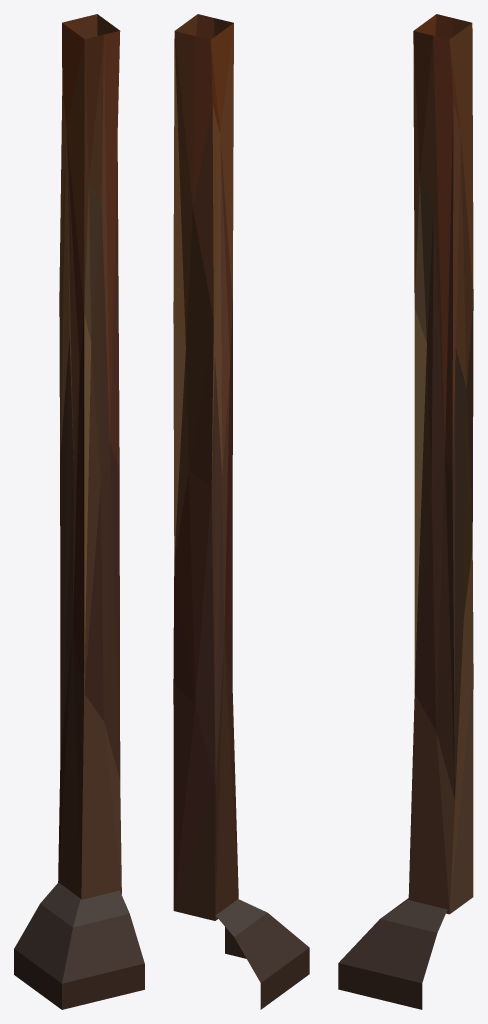
The model's file is Wall_HomeA-CornerOuterE.fbx.
The picture shows the model from 3 angles, left to right: view 1: azimuth 30°, elevation 25°; view 2: azimuth 150°, elevation 25°; view 3: azimuth 330°, elevation 25°; orthographic projection.
Parts seen in each view (by area): view 1: Wall_HomeA-CornerOuterE; view 2: Wall_HomeA-CornerOuterE; view 3: Wall_HomeA-CornerOuterE.
Boxes of the visible parts, x1,y1,x2,y2 form: Wall_HomeA-CornerOuterE: (14, 14, 144, 1009); Wall_HomeA-CornerOuterE: (173, 14, 309, 1009); Wall_HomeA-CornerOuterE: (338, 14, 473, 1009).
Bounding box in the file's own units: 26.16 × 271 × 26.19.
